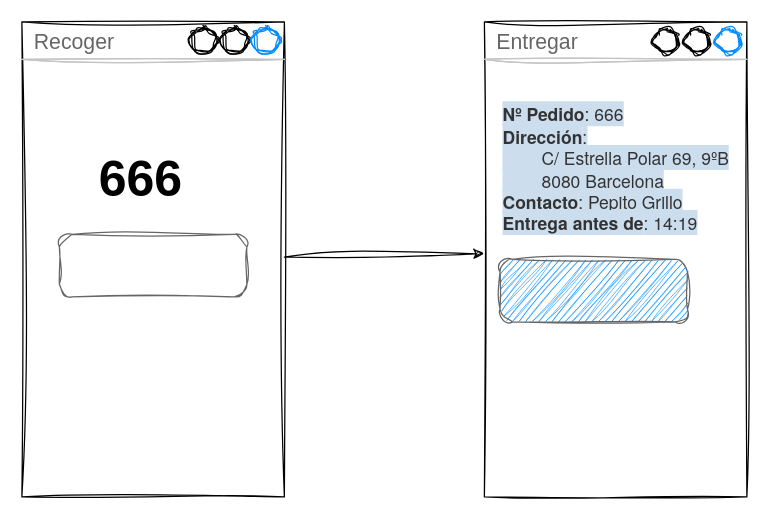
The diagram is 769 pixels wide and 519 high, and some of its shapes have lost their labels. Here are the shapes that lost their labels. From the top down, the centre of each, then its label:
the point at 152,265: Recogido
the point at 593,290: Entregado
